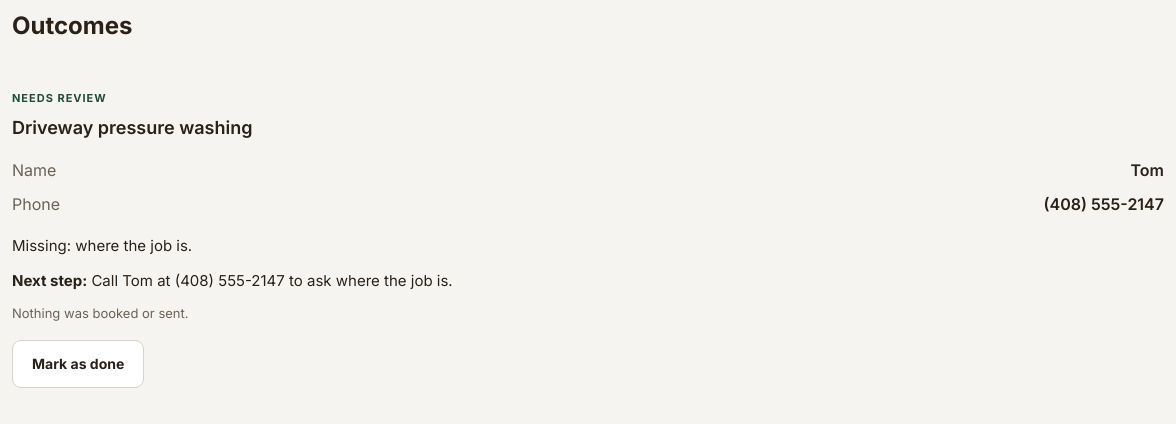
Scenario: Mark as done (VA-T16) › saves Done through the review endpoint, dims the note and offers Undo, which sets it back
The image size is (1176, 424).
Later steps or results of the test are not shown.
Step 1. Click the button "Mark as done" → point(78, 364), box [12,340,144,388]
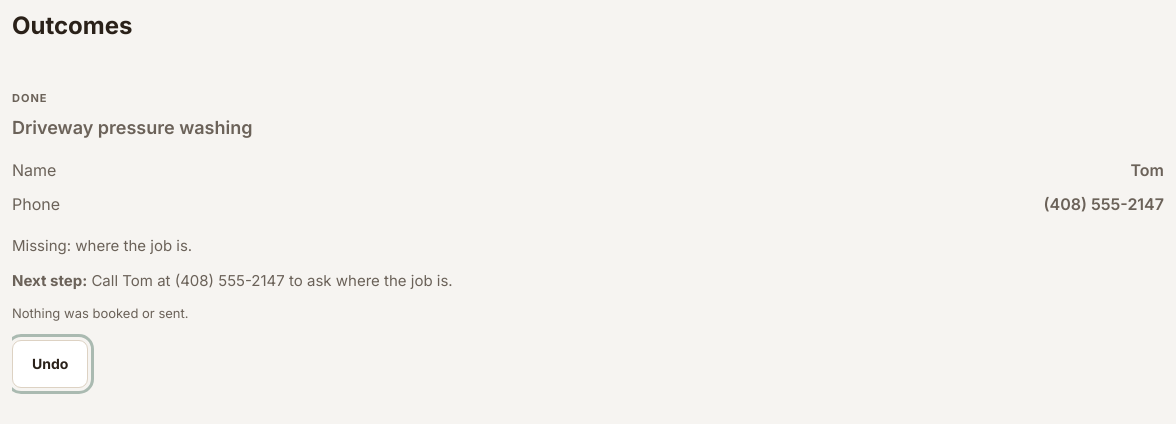
Check: the text "Done" is shown, box [12,91,48,105]
Step 2. Click the button "Undo" → point(50, 364), box [12,340,88,388]
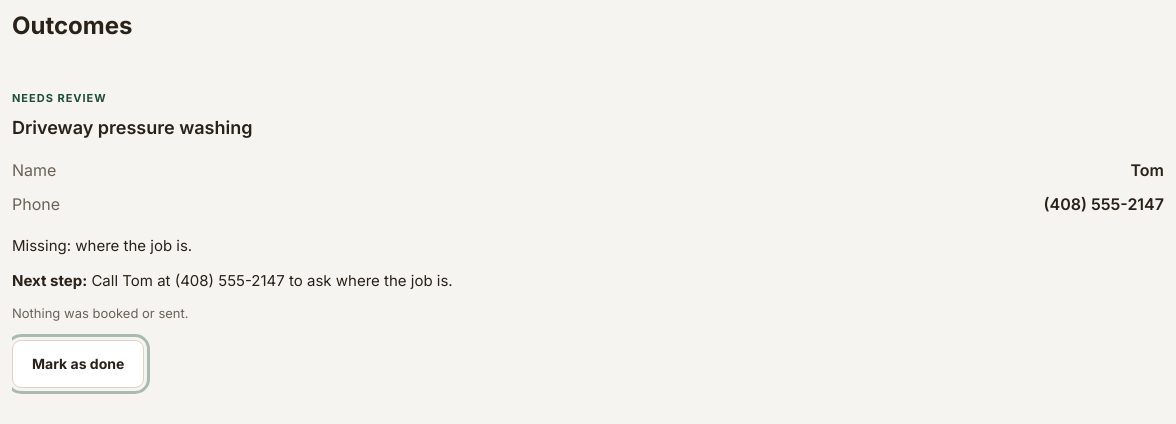
Check: the button "Mark as done" is enabled, box [12,340,144,388]
Check: the text "Needs review" is shown, box [12,91,107,105]
